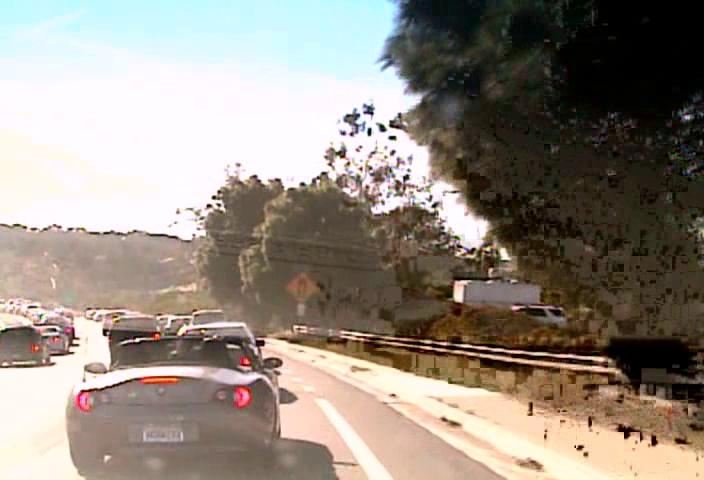signalAhead: (284, 271, 319, 304)
